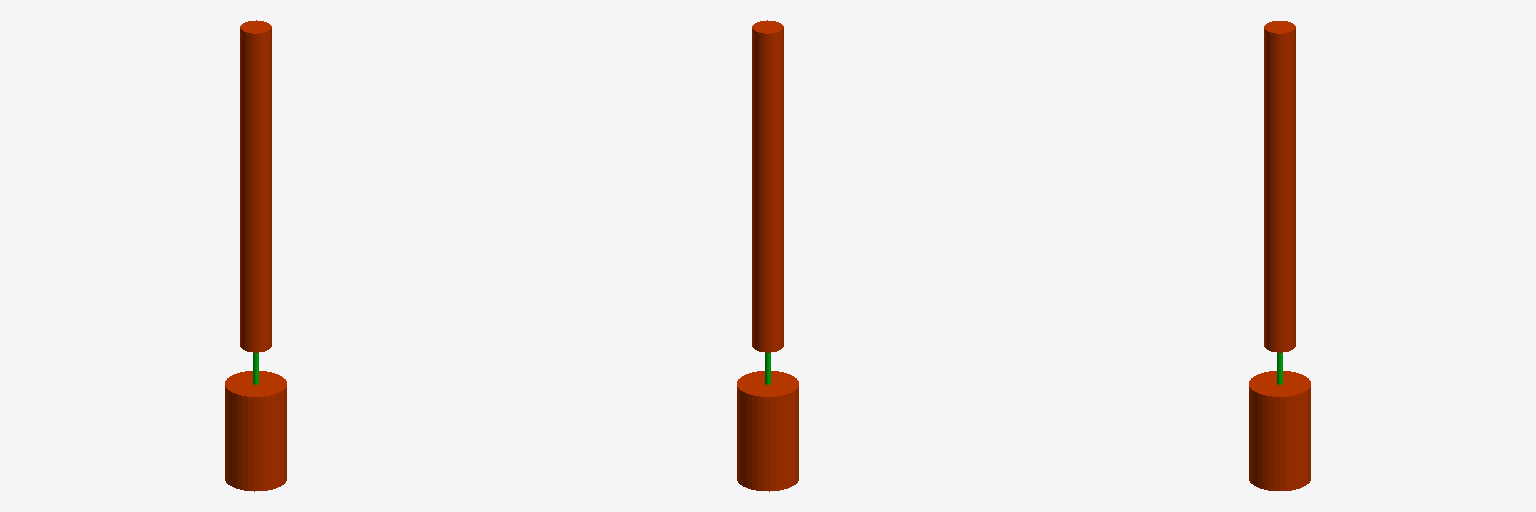
robot.urdf — oneleg:
<?xml version="1.0"?>
<robot name="oneleg">

  <!-- Joint tra Colonna e Giunto (fisso) -->
  <joint name="Colonna_Giunto_joint" type="fixed">
    <origin rpy="0 0 0" xyz="0 0 0.2"/> <!-- Colonna è alta 0.2 m -->
    <parent link="Link_colonna"/>
    <child link="Giunto_Link"/>
  </joint>

  <!-- Joint tra Giunto e Gamba (fisso) -->
  <joint name="Giunto_Gamba_joint" type="fixed">
    <origin rpy="0 0 0" xyz="0 0 0.08"/> <!-- Giunto è alto 0.08 m -->
    <parent link="Giunto_Link"/>
    <child link="Gamba_Link"/>
  </joint>

  <!-- Link Colonna -->
  <link name="Link_colonna">
    <visual>
      <origin rpy="0 0 0" xyz="0 0 0.1"/> <!-- Colonna alta 0.2, metà altezza = 0.1 -->
      <geometry>
        <cylinder radius="0.06" length="0.2"/> <!-- Diametro 0.12 m -->
      </geometry>
      <material name="Material.001"/>
    </visual>
    <collision>
      <origin rpy="0 0 0" xyz="0 0 0.1"/>
      <geometry>
        <cylinder radius="0.06" length="0.2"/>
      </geometry>
    </collision>
    <inertial>
      <origin rpy="0 0 0" xyz="0 0 0.1"/>
      <mass value="8.6"/>
      <inertia ixx="0.001" ixy="0" ixz="0" iyy="0.001" iyz="0" izz="0.001"/>
    </inertial>
  </link>

  <!-- Link Giunto -->
  <link name="Giunto_Link">
    <visual>
      <origin rpy="0 0 0" xyz="0 0 0.04"/> <!-- Giunto alto 0.08, metà altezza = 0.04 -->
      <geometry>
        <cylinder radius="0.0055" length="0.08"/> <!-- Diametro 0.011 m -->
      </geometry>
      <material name="Material.003"/>
    </visual>
    <collision>
      <origin rpy="0 0 0" xyz="0 0 0.04"/>
      <geometry>
        <cylinder radius="0.0055" length="0.08"/>
      </geometry>
    </collision>
    <inertial>
      <origin rpy="0 0 0" xyz="0 0 0.04"/>
      <mass value="0.0569"/>
      <inertia ixx="0.001" ixy="0" ixz="0" iyy="0.001" iyz="0" izz="0.001"/>
    </inertial>
  </link>

  <!-- Link Gamba -->
  <link name="Gamba_Link">
    <visual>
      <origin rpy="0 0 0" xyz="0 0 0.3375"/> <!-- Gamba alta 0.675, metà altezza = 0.3375 -->
      <geometry>
        <cylinder radius="0.03" length="0.675"/> <!-- Diametro 0.06 m -->
      </geometry>
      <material name="Material.001"/>
    </visual>
    <collision>
      <origin rpy="0 0 0" xyz="0 0 0.3375"/>
      <geometry>
        <cylinder radius="0.03" length="0.675"/>
      </geometry>
    </collision>
    <inertial>
      <origin rpy="0 0 0" xyz="0 0 0.3375"/>
      <mass value="1.6145"/>
      <inertia ixx="0.001" ixy="0" ixz="0" iyy="0.001" iyz="0" izz="0.001"/>
    </inertial>
  </link>

  <!-- Materiali -->
  <material name="Material.001">
    <color rgba="0.800 0.243 0.000 1.000"/>
  </material>
  <material name="Material.003">
    <color rgba="0.000 0.800 0.059 1.000"/>
  </material>
</robot>

--- Render facts (derived) ---
The picture shows the robot from 3 angles, left to right: view 1: azimuth 30°, elevation 25°; view 2: azimuth 150°, elevation 25°; view 3: azimuth 270°, elevation 25°; orthographic projection.
Robot: oneleg — 3 links, 2 joints (2 fixed); root link Link_colonna; default pose: every joint at zero.
Links seen in each view (by area): view 1: Gamba_Link, Link_colonna; view 2: Gamba_Link, Link_colonna; view 3: Gamba_Link, Link_colonna.
Boxes of the visible links, x1=… form: Gamba_Link: x1=240, y1=20, x2=271, y2=352; Link_colonna: x1=225, y1=371, x2=286, y2=491; Gamba_Link: x1=752, y1=20, x2=783, y2=352; Link_colonna: x1=737, y1=371, x2=798, y2=491; Gamba_Link: x1=1264, y1=21, x2=1295, y2=352; Link_colonna: x1=1249, y1=371, x2=1310, y2=490.
Bounding box of the posed robot: 0.12 × 0.12 × 0.955 m (x, y, z).
Geometry: primitives only (box / cylinder / sphere), no mesh files.
